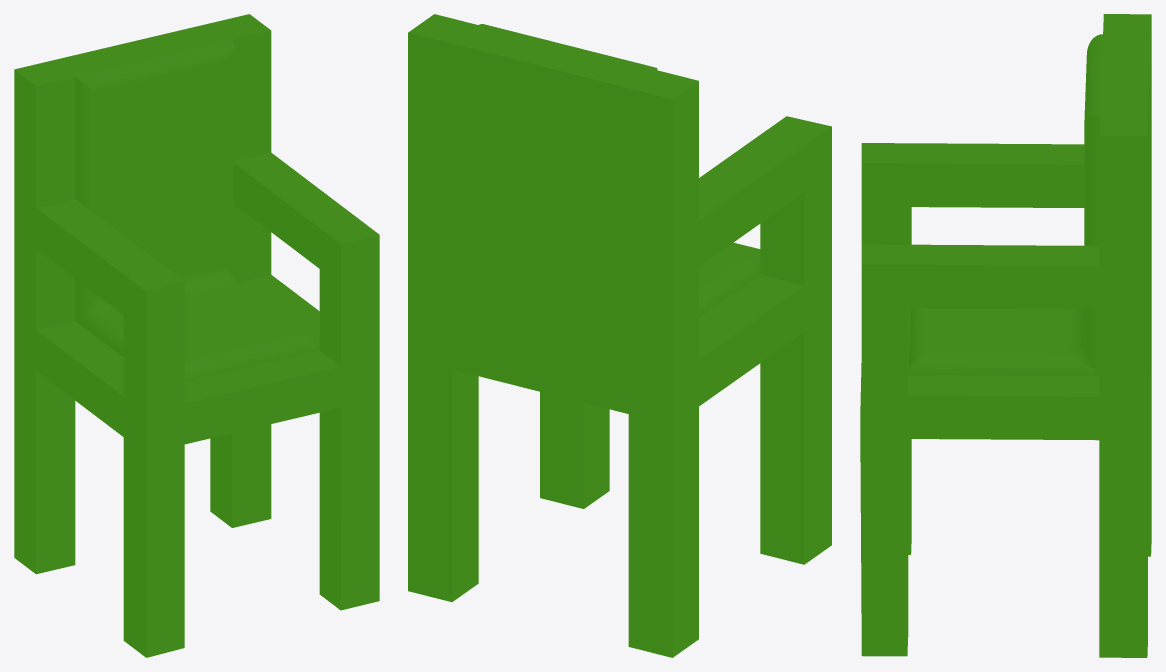
File: DiningChairHolo.glb
The picture shows the model from 3 angles, left to right: view 1: azimuth 30°, elevation 25°; view 2: azimuth 150°, elevation 25°; view 3: azimuth 270°, elevation 25°; orthographic projection. The views are drawn at different scales.
Parts seen in each view (by area): view 1: DiningChairHolo; view 2: DiningChairHolo; view 3: DiningChairHolo.
Boxes of the visible parts, <box> form: DiningChairHolo: <box>14,14,379,657</box>; DiningChairHolo: <box>408,14,831,657</box>; DiningChairHolo: <box>860,14,1151,657</box>.
Bounding box in the file's own units: 6.09 × 12 × 6.07.
